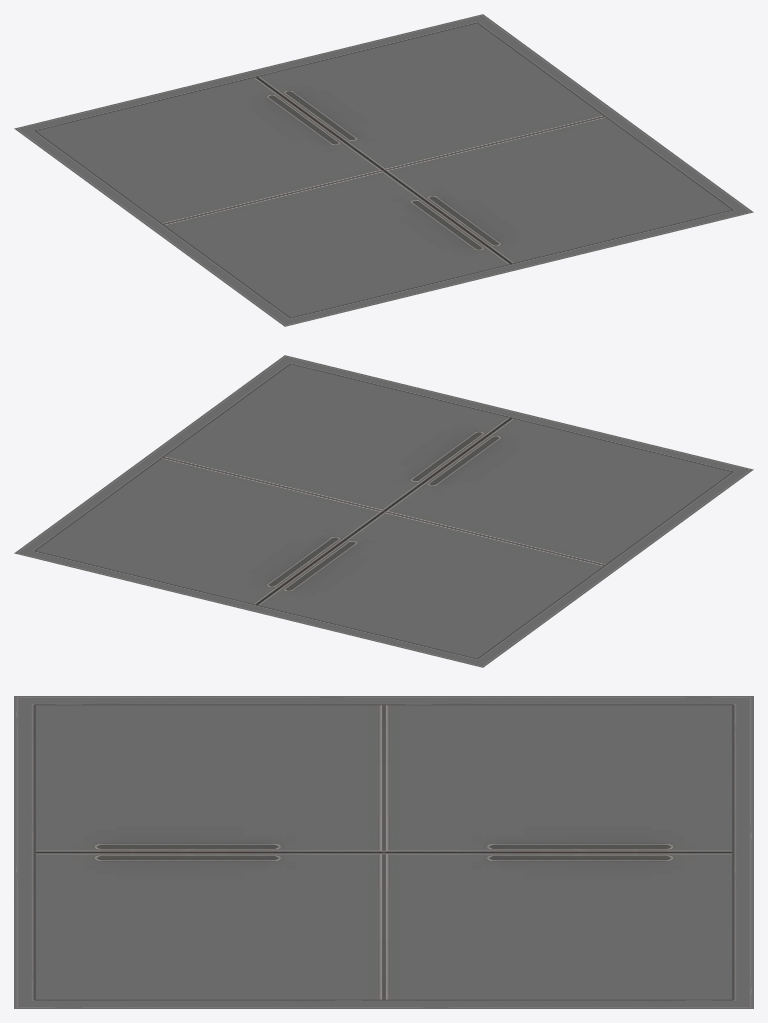
The model's file is Platform_Squares.glb.
3 renders of one model, top to bottom at view 1: azimuth 30°, elevation 25°; view 2: azimuth 150°, elevation 25°; view 3: azimuth 270°, elevation 25°, orthographic. The views are drawn at different scales.
Visible parts, largest first — view 1: Platform_Squares; view 2: Platform_Squares; view 3: Platform_Squares.
Boxes of the visible parts, x1,y1,x2,y2 form: Platform_Squares: (14,14,753,326); Platform_Squares: (14,355,753,667); Platform_Squares: (14,696,753,1008).
Size of the model in its own units: 4 by 0 by 4.
1 material, 1 textured.
